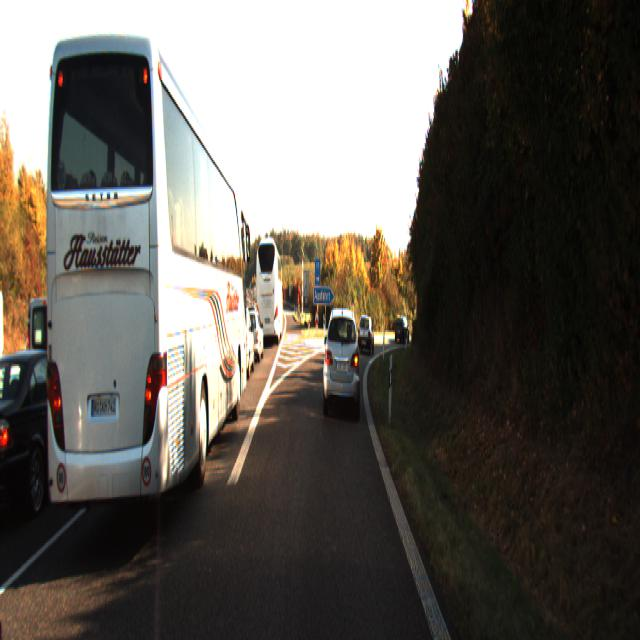Car: (42, 22, 248, 560), (0, 342, 100, 533), (27, 293, 112, 429), (322, 304, 360, 418), (255, 235, 282, 345), (225, 306, 255, 379), (240, 313, 264, 366), (358, 315, 375, 356), (394, 315, 410, 342)
